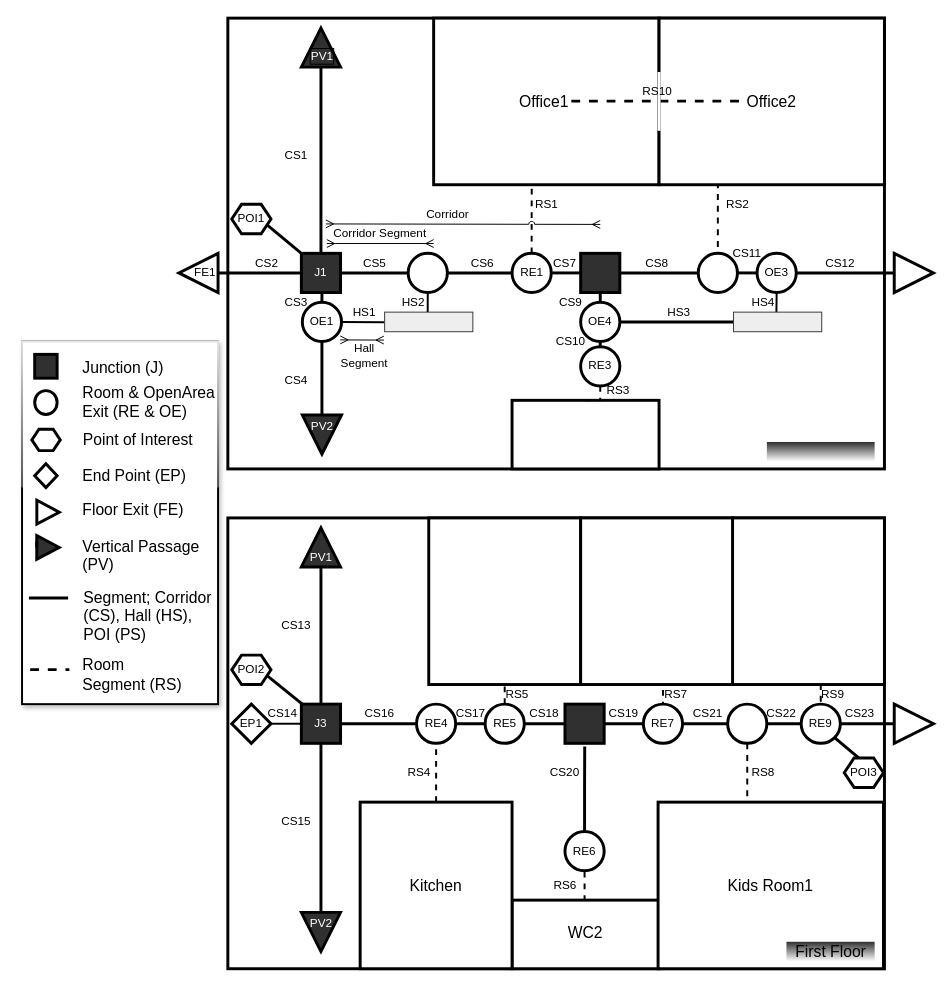
Some shapes in this 952 by 987 pixel diagram are drawn without their labels. The centre of each missing label's shape, as x and y in pixels:
FE2: the point at 913,272
FE3: the point at 913,723
Ground Floor: the point at 820,451
J2: the point at 600,272
J4: the point at 584,723
OE2: the point at 427,272
Office3: the point at 504,601
Office4: the point at 656,601
Office5: the point at 808,601
OpenHall1: the point at 428,321
OpenHall2: the point at 777,321
RE2: the point at 717,272
RE8: the point at 747,723
WC1: the point at 585,434
